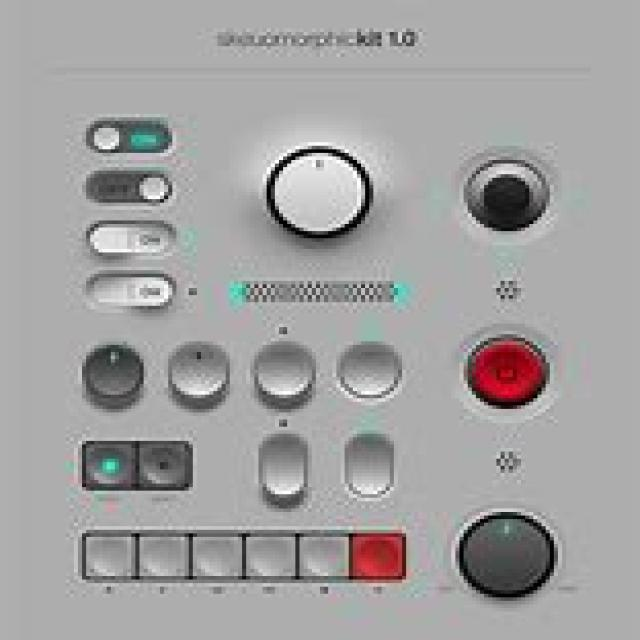button: (449, 140, 575, 254), (450, 324, 570, 422), (336, 337, 404, 405), (258, 430, 312, 506), (342, 431, 397, 503), (137, 436, 196, 495), (78, 436, 137, 492), (78, 528, 137, 580), (190, 526, 243, 582), (136, 528, 190, 581), (351, 528, 405, 580), (246, 527, 298, 579), (299, 530, 351, 578)
label: (213, 27, 427, 49)
slider: (439, 497, 597, 603), (254, 138, 384, 234), (225, 276, 407, 308), (254, 320, 319, 408), (74, 342, 148, 406), (165, 340, 233, 404)
switch: (78, 271, 180, 313), (83, 111, 174, 156), (80, 164, 177, 206), (84, 220, 179, 258)
